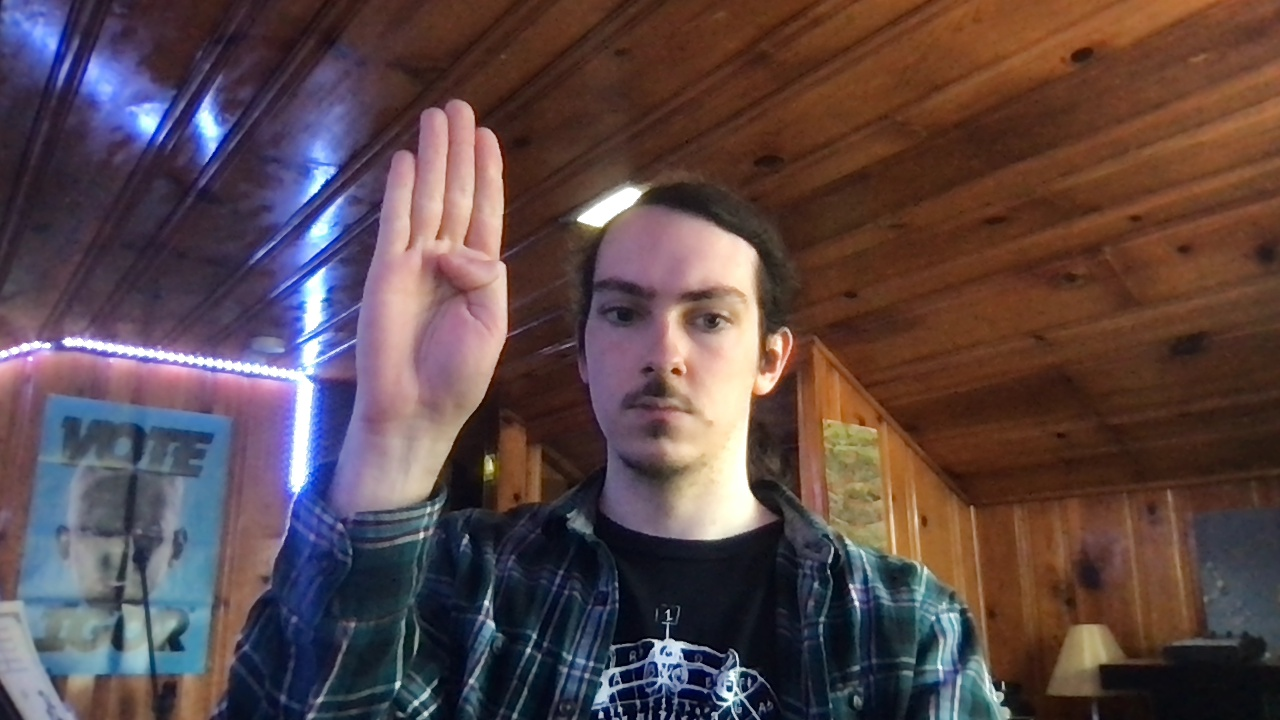b: (351, 95, 512, 430)
